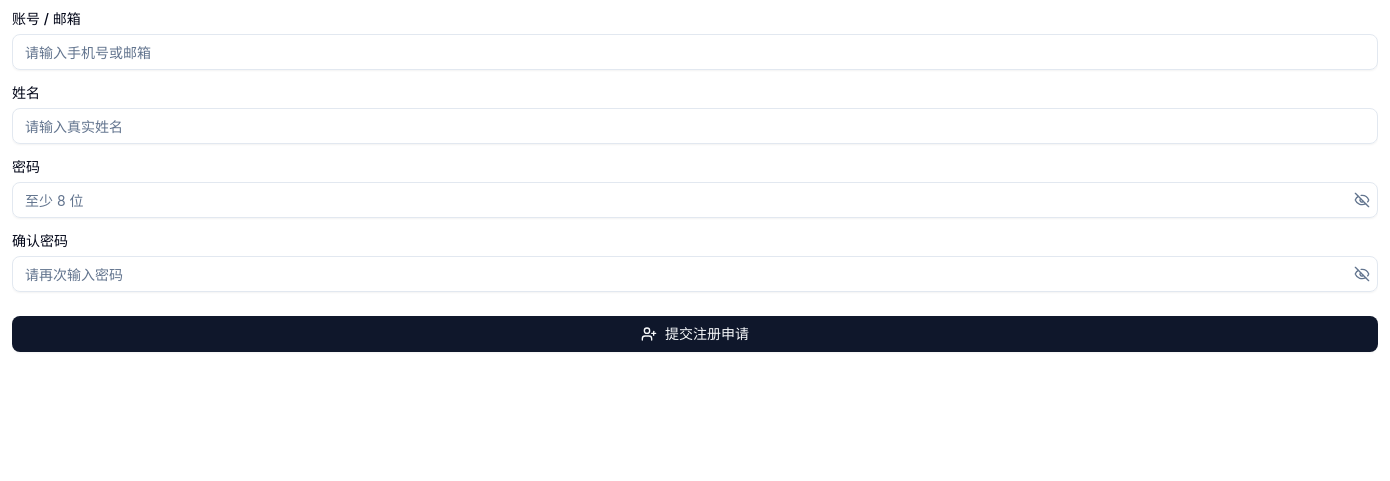
Test: SignUpForm › requires account, name, password and confirmation
Click the button "提交注册申请" at (695,334), box [12, 316, 1378, 352]
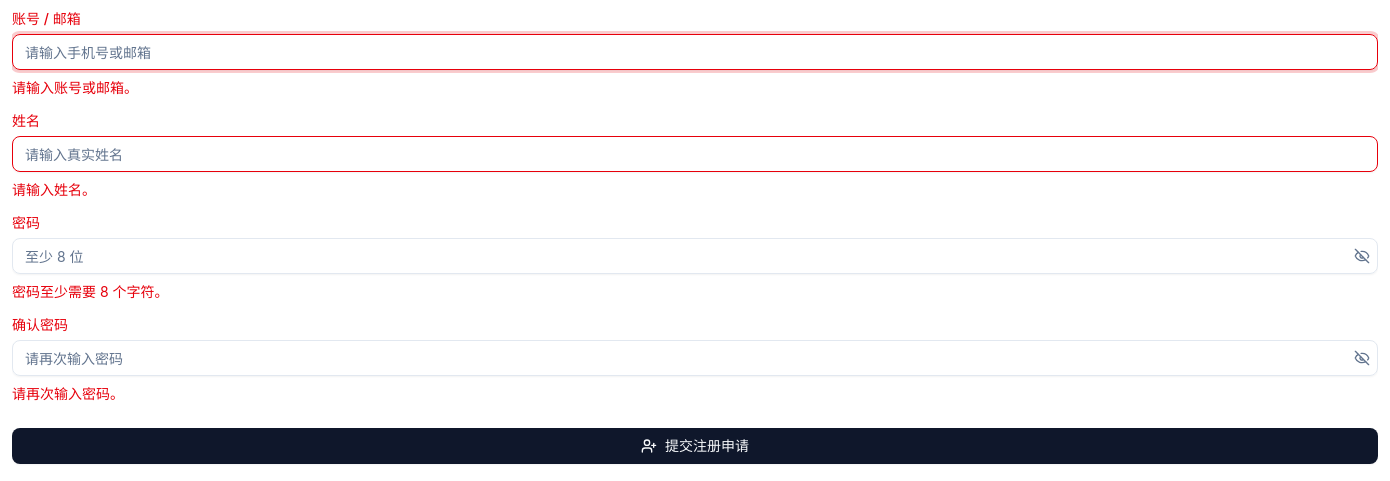
Check: the text "请输入账号或邮箱。" is shown, box [12, 79, 138, 96]
Check: the text "请输入姓名。" is shown, box [12, 181, 96, 198]
Check: the text "密码至少需要 8 个字符。" is shown, box [12, 283, 168, 300]
